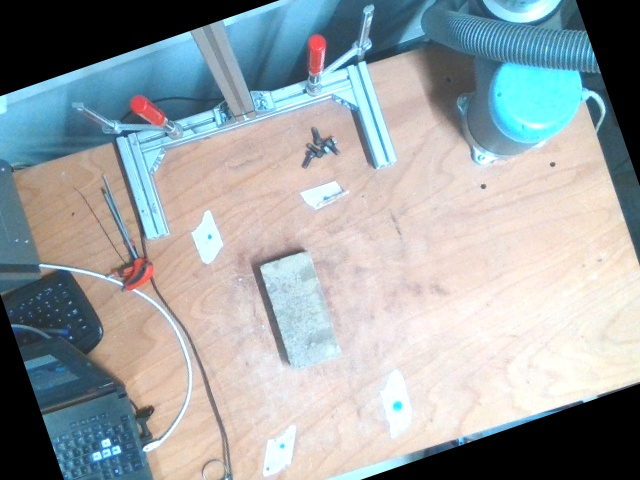brick: (260, 254, 338, 367)
